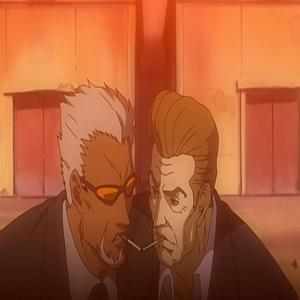cigarette: (120, 233, 141, 252), (143, 237, 166, 253)
